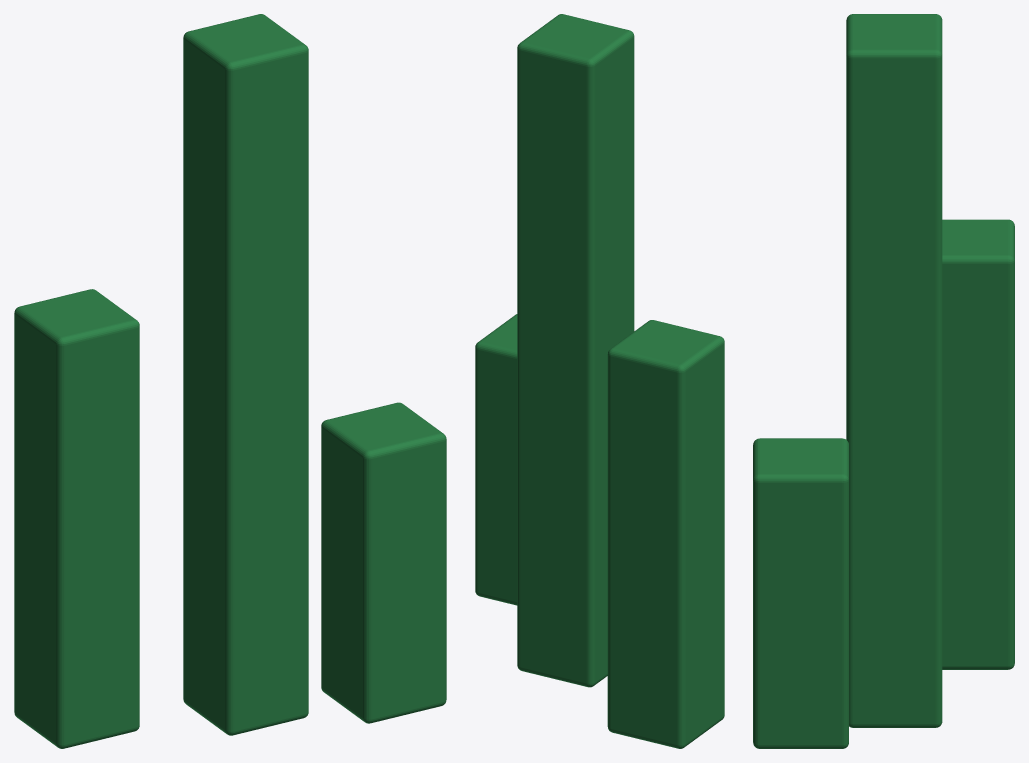
3 views of the same model, side by side, from view 1: azimuth 30°, elevation 25°; view 2: azimuth 150°, elevation 25°; view 3: azimuth 270°, elevation 25° (orthographic). The views are drawn at different scales.
Parts seen in each view (by area): view 1: BipJamExport_small_flower; view 2: BipJamExport_small_flower; view 3: BipJamExport_small_flower.
Boxes of the visible parts, <box> form: BipJamExport_small_flower: <box>14,14,446,748</box>; BipJamExport_small_flower: <box>475,14,724,748</box>; BipJamExport_small_flower: <box>753,14,1014,748</box>.
Bounding box in the file's own units: 0.3215 × 0.6809 × 0.2358.
